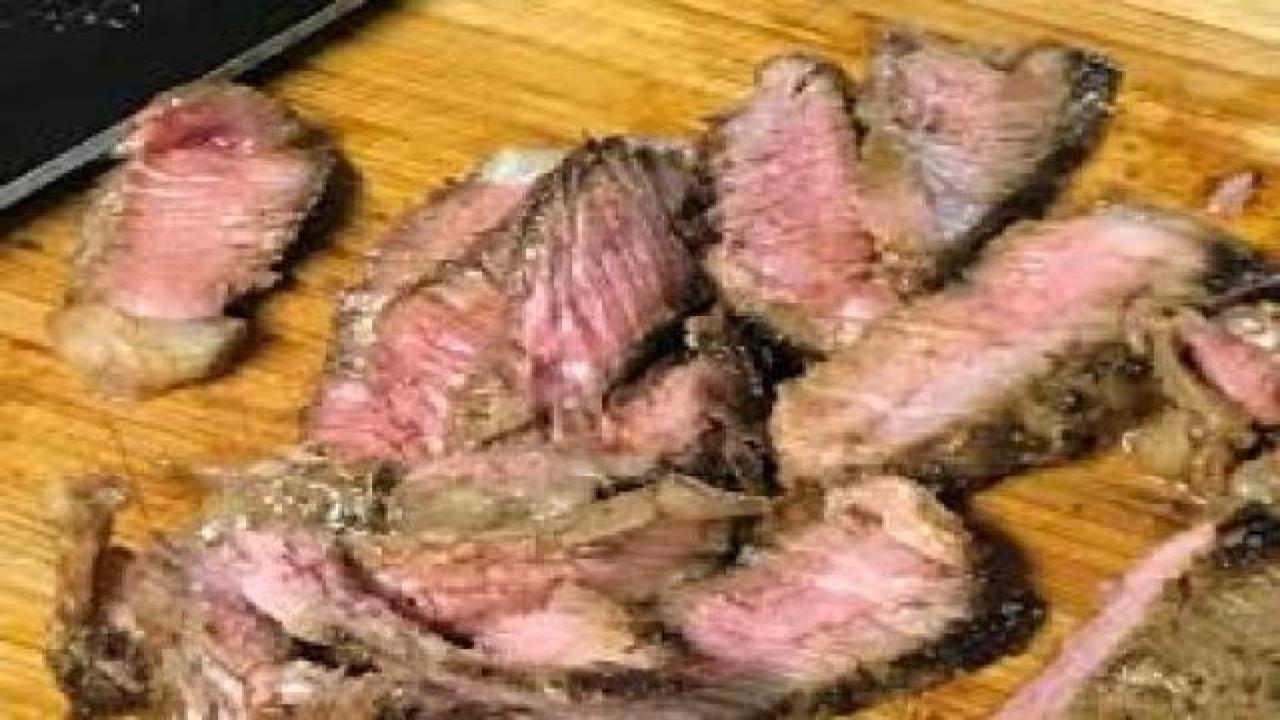Carne: (13, 0, 1278, 720)
